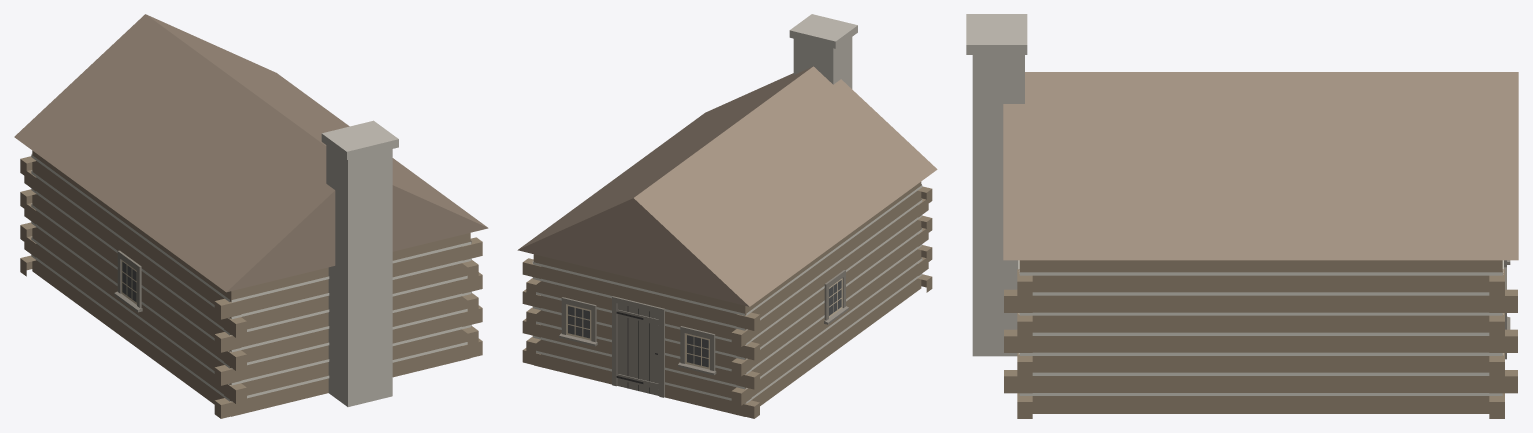
Rendered from recon_1835_blk_randolph_market_d1_10__inferred_1835.glb.
The picture shows the model from 3 angles, left to right: view 1: azimuth 30°, elevation 25°; view 2: azimuth 150°, elevation 25°; view 3: azimuth 270°, elevation 25°; orthographic projection. The views are drawn at different scales.
Parts seen in each view (by area): view 1: recon_1835_blk_randolph_market_d1_10__inferred_1835; view 2: recon_1835_blk_randolph_market_d1_10__inferred_1835; view 3: recon_1835_blk_randolph_market_d1_10__inferred_1835.
Part boxes in pixels (x1=…): recon_1835_blk_randolph_market_d1_10__inferred_1835: x1=14, y1=14, x2=488, y2=418; recon_1835_blk_randolph_market_d1_10__inferred_1835: x1=517, y1=14, x2=937, y2=418; recon_1835_blk_randolph_market_d1_10__inferred_1835: x1=966, y1=14, x2=1518, y2=418.
Size of the model in its own units: 5.65 by 5.31 by 8.47.
